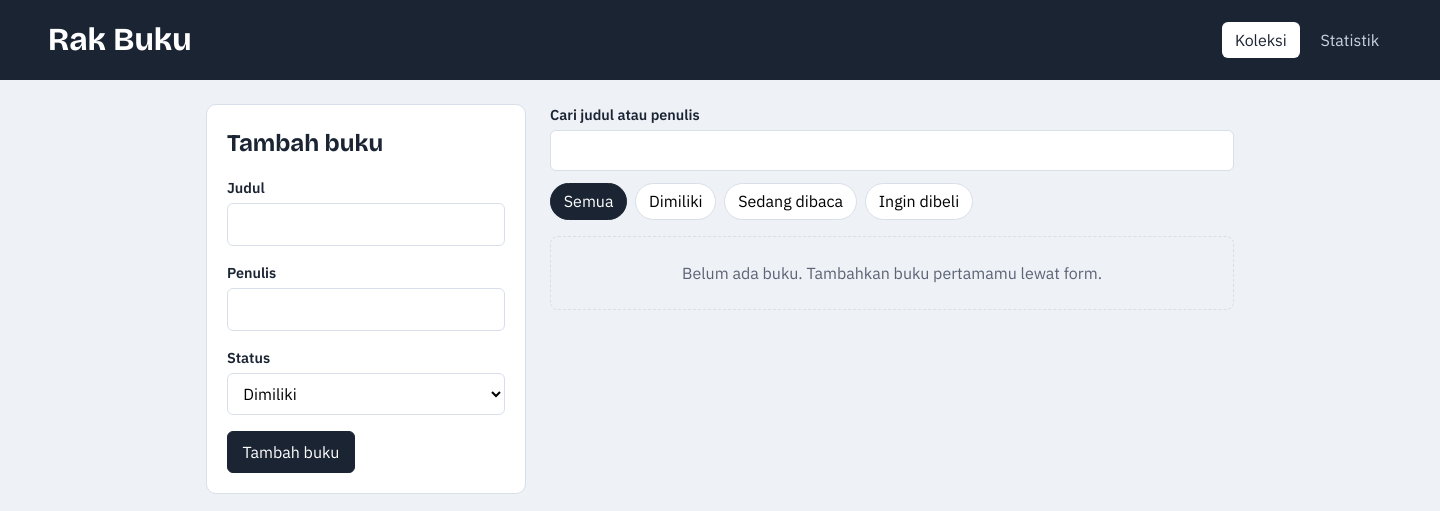
Test case: App (integrasi) › berpindah ke halaman statistik
Type "Bumi" into the field labelled "Judul" at (366, 224), box 227,203 -> 505,246
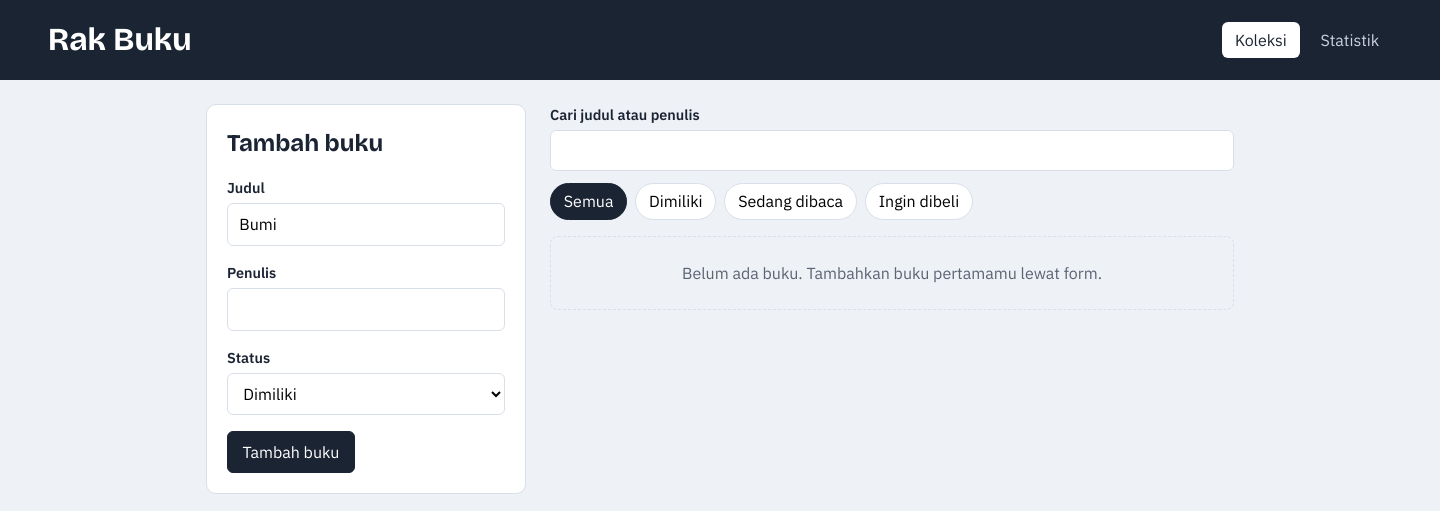
Type "Tere Liye" into the field labelled "Penulis" at (366, 310), box 227,288 -> 505,331
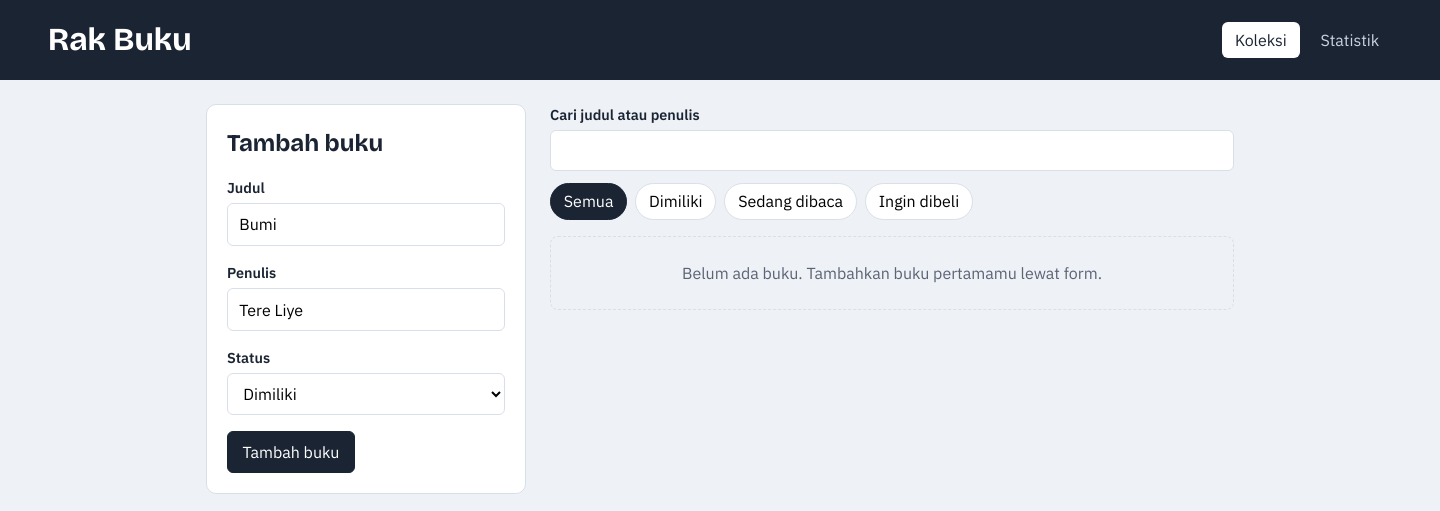
Select "Dimiliki" in the dropdown labelled "Status" at (366, 394), box 227,373 -> 505,415
Click the button "Tambah buku" at (291, 452), box 227,431 -> 355,473
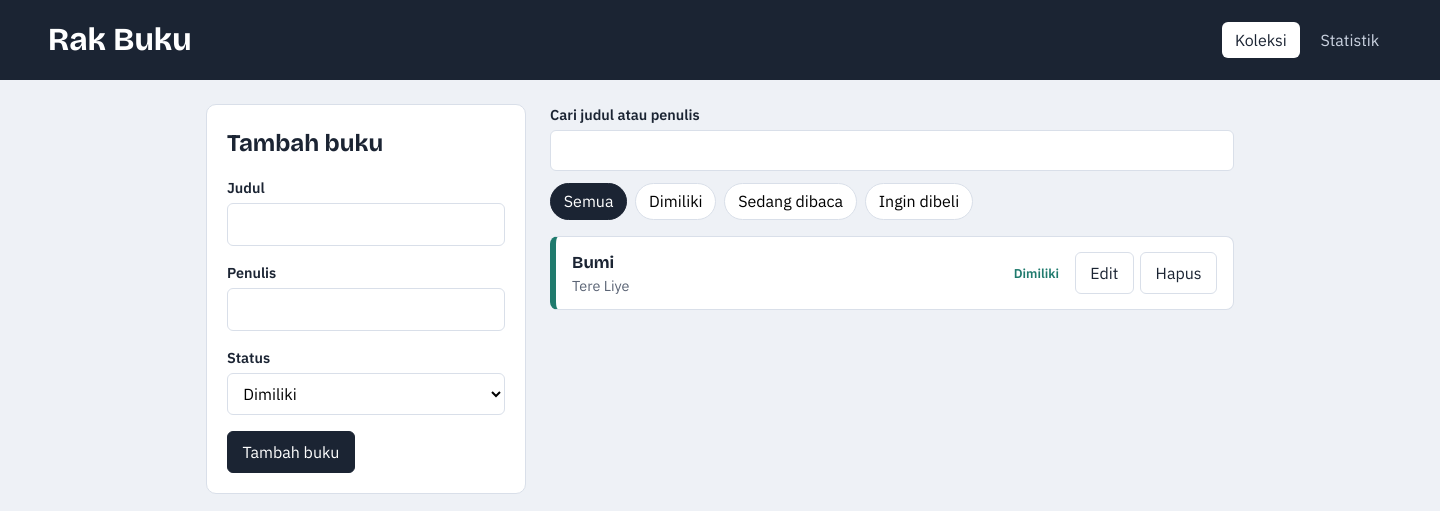
Click the link "Statistik" at (1350, 40), box 1320,30 -> 1379,50
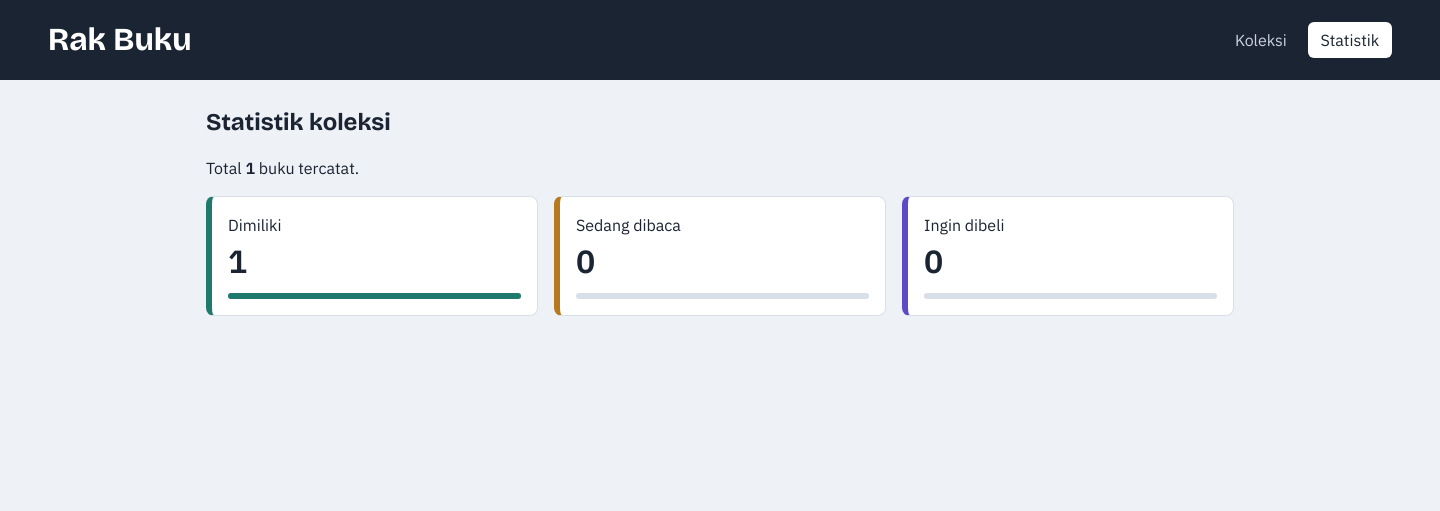
Expected: the heading "Statistik koleksi" is shown, 206,108 -> 391,136
